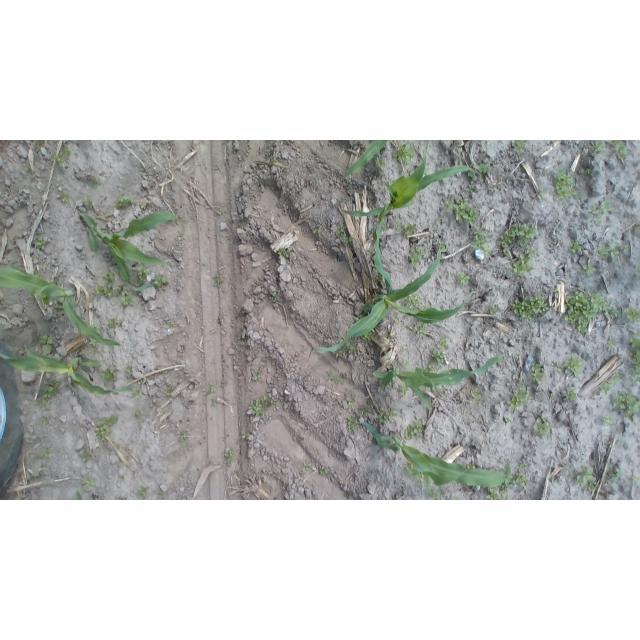Maize: (317, 213, 474, 355), (1, 264, 122, 347), (361, 422, 511, 488), (343, 153, 473, 216), (78, 211, 178, 292), (373, 353, 510, 410), (2, 347, 135, 394), (341, 141, 388, 180), (73, 489, 81, 500)
Weeds: (565, 292, 611, 335), (613, 391, 640, 422), (552, 169, 579, 199), (511, 245, 535, 275), (522, 296, 551, 317), (508, 222, 539, 239), (391, 143, 413, 163), (604, 372, 632, 387), (456, 201, 477, 220), (404, 420, 422, 440), (563, 356, 580, 377), (396, 221, 417, 238), (575, 464, 593, 482), (50, 147, 70, 163), (613, 142, 628, 163), (471, 233, 489, 250), (40, 335, 55, 354), (632, 352, 640, 387), (45, 381, 60, 398), (97, 414, 117, 426), (535, 419, 550, 435), (431, 349, 448, 363), (513, 386, 531, 399), (99, 368, 118, 380), (81, 475, 95, 490), (533, 363, 544, 381), (95, 426, 110, 439), (339, 229, 352, 244), (326, 372, 343, 383), (498, 234, 512, 247), (114, 196, 130, 207), (35, 237, 48, 250), (627, 306, 639, 320), (137, 267, 152, 278), (253, 399, 264, 414), (155, 276, 168, 288), (589, 141, 603, 152), (81, 447, 92, 461), (602, 247, 619, 256), (600, 203, 615, 213), (511, 299, 521, 314), (601, 414, 616, 424), (38, 398, 50, 410), (121, 292, 133, 304), (408, 297, 420, 308), (460, 272, 471, 284), (630, 338, 639, 352), (82, 198, 93, 209), (567, 389, 577, 401), (611, 305, 620, 318), (58, 194, 71, 203), (88, 176, 101, 185), (437, 339, 450, 348), (507, 398, 521, 406), (137, 487, 148, 497), (41, 449, 52, 459), (411, 251, 421, 262), (102, 286, 112, 297), (476, 162, 487, 172), (514, 141, 524, 152), (385, 410, 397, 419), (225, 451, 232, 466), (414, 324, 423, 335), (517, 474, 528, 483), (105, 273, 116, 282), (264, 398, 275, 407), (585, 266, 596, 275), (472, 388, 481, 398), (443, 201, 453, 210), (125, 365, 132, 377), (554, 362, 563, 371), (610, 472, 619, 481), (588, 482, 597, 491), (490, 490, 499, 499), (430, 488, 439, 497), (376, 158, 385, 167), (347, 343, 357, 351), (214, 275, 221, 286), (588, 207, 599, 214), (40, 416, 49, 424), (608, 339, 616, 348), (600, 384, 608, 393), (348, 417, 356, 426), (358, 406, 366, 415), (53, 301, 61, 310), (179, 432, 187, 441), (571, 243, 579, 252), (517, 463, 527, 470), (376, 414, 384, 422), (488, 304, 496, 312), (241, 431, 249, 439), (139, 202, 148, 209), (158, 492, 165, 500), (347, 396, 354, 404), (113, 288, 120, 296), (95, 286, 102, 294), (108, 319, 114, 328), (318, 468, 327, 474), (400, 386, 407, 393), (252, 375, 259, 382), (304, 461, 312, 467), (165, 386, 171, 394), (235, 333, 241, 340), (347, 425, 353, 432), (393, 315, 399, 322), (136, 411, 141, 418), (168, 323, 173, 330), (277, 248, 284, 253)
